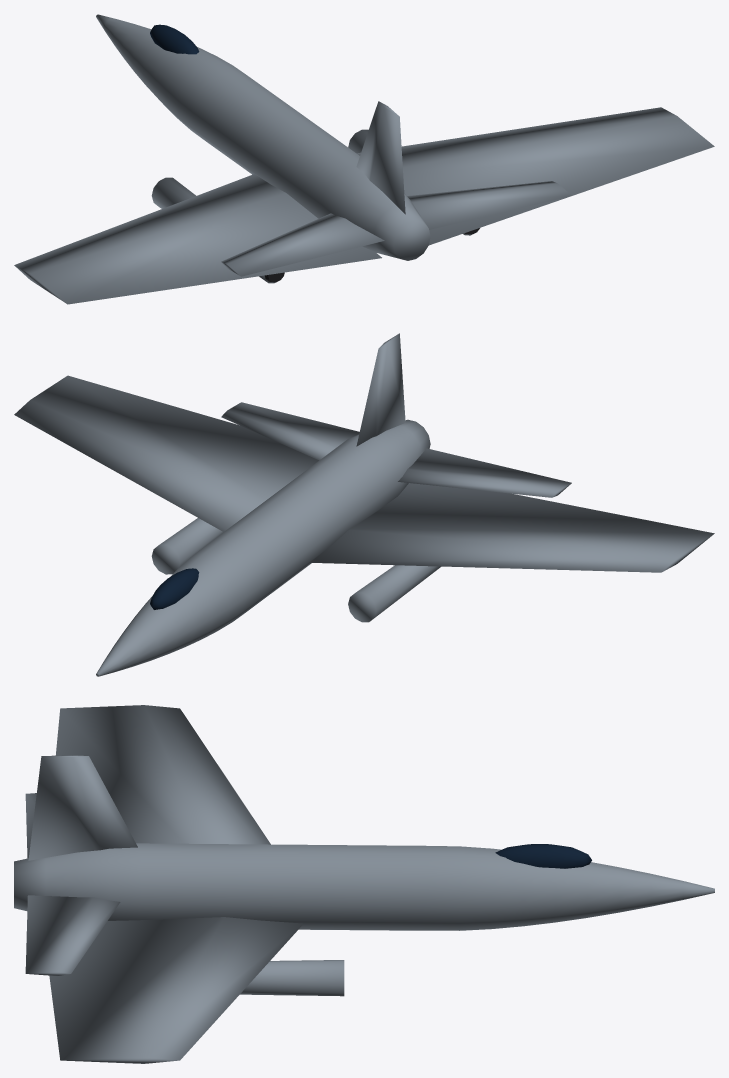
The picture shows the model from 3 angles, top to bottom: view 1: azimuth 30°, elevation 25°; view 2: azimuth 150°, elevation 25°; view 3: azimuth 270°, elevation 25°; orthographic projection. The views are drawn at different scales.
Parts seen in each view (by area): view 1: Body, Canopy; view 2: Body, Canopy; view 3: Body, Canopy.
Boxes of the visible parts, x1,y1,x2,y2 form: Body: (14, 14, 714, 304); Canopy: (150, 24, 199, 54); Body: (14, 333, 714, 676); Canopy: (150, 568, 199, 609); Body: (14, 705, 714, 1063); Canopy: (495, 844, 591, 868).
Size of the model in its own units: 12.6 by 3.09 by 10.6.
